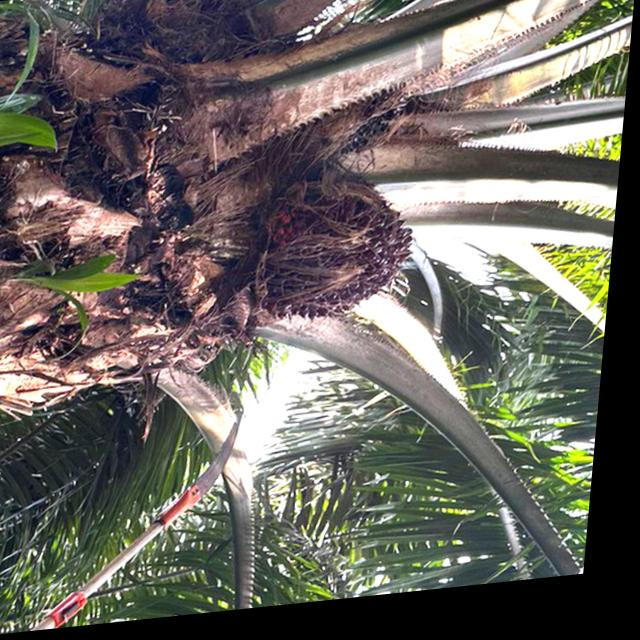ripe: (257, 187, 430, 334)
